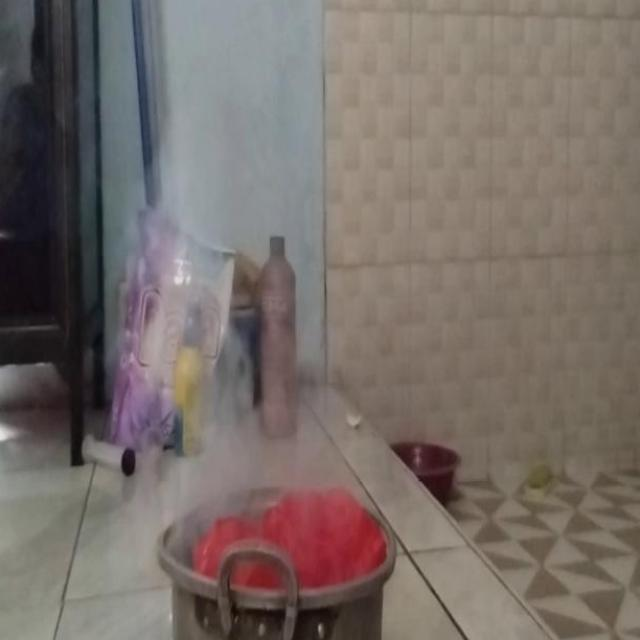fire: (136, 162, 238, 518)
